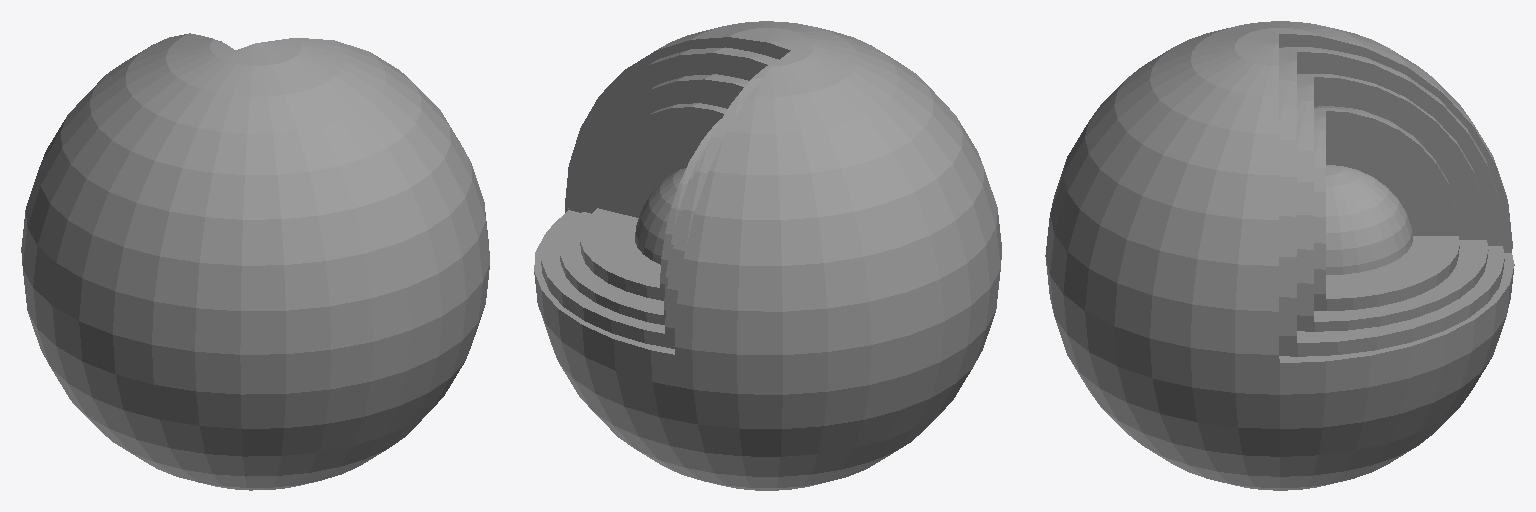
The model's file is maakoor.obj.
3 renders of one model, left to right at view 1: azimuth 30°, elevation 25°; view 2: azimuth 150°, elevation 25°; view 3: azimuth 270°, elevation 25°, orthographic.
Visible parts, largest first — view 1: Sphere_Sphere.002; view 2: Sphere_Sphere.002, Sphere.003_Sphere.006, Sphere.001_Sphere.003, Sphere.002_Sphere.005, Sphere.004_Sphere.007; view 3: Sphere_Sphere.002, Sphere.003_Sphere.006, Sphere.001_Sphere.003, Sphere.002_Sphere.005, Sphere.004_Sphere.007.
Boxes of the visible parts, box(x1,y1,x2,y2) form: Sphere_Sphere.002: box(21, 33, 489, 490); Sphere_Sphere.002: box(534, 21, 1001, 490); Sphere.003_Sphere.006: box(580, 103, 726, 300); Sphere.001_Sphere.003: box(541, 47, 778, 348); Sphere.002_Sphere.005: box(560, 74, 748, 324); Sphere.004_Sphere.007: box(635, 168, 685, 264); Sphere_Sphere.002: box(1045, 21, 1514, 490); Sphere.003_Sphere.006: box(1314, 106, 1459, 310); Sphere.001_Sphere.003: box(1279, 47, 1504, 356); Sphere.002_Sphere.005: box(1297, 74, 1488, 331); Sphere.004_Sphere.007: box(1326, 165, 1412, 274).
Size of the model in its own units: 2.39 by 2.39 by 2.39.